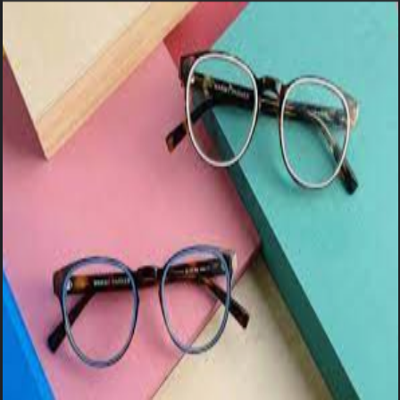glasses: (163, 43, 363, 203), (41, 241, 252, 369)
